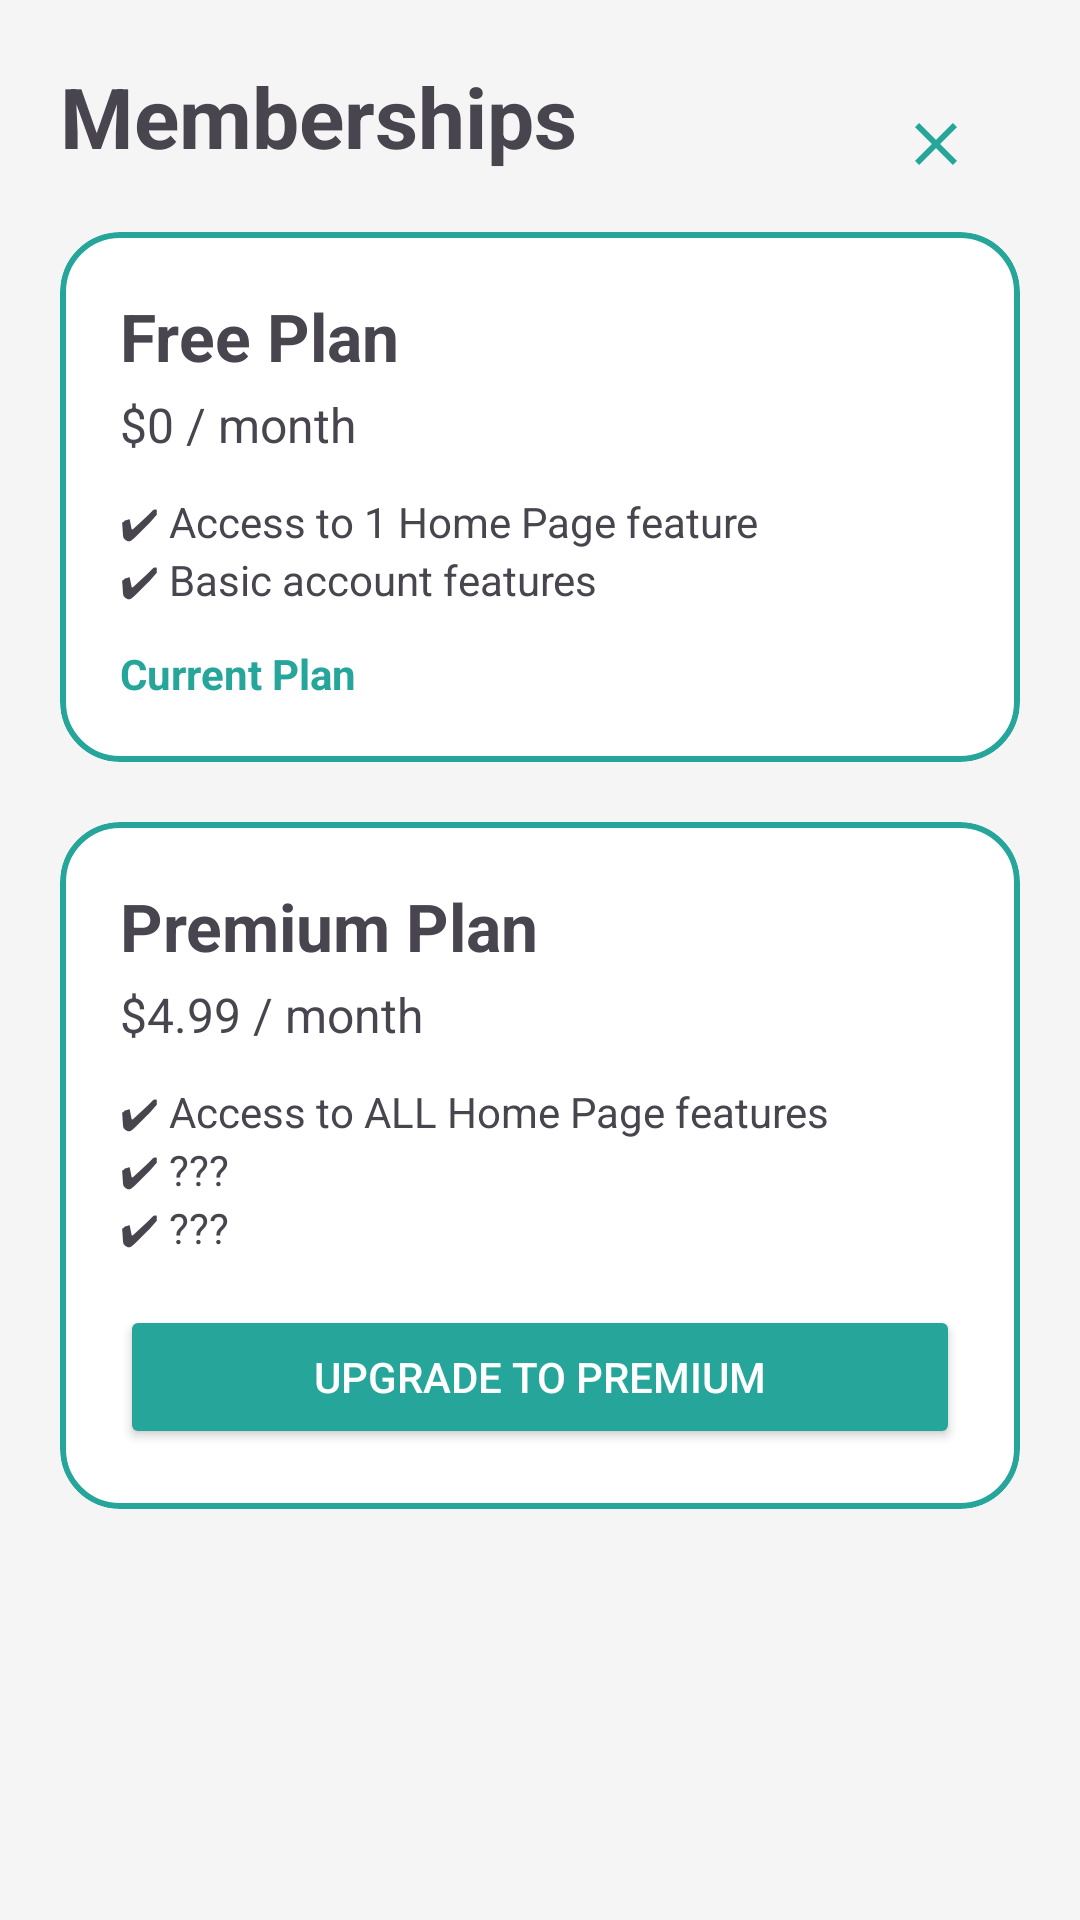

Icon bounding boxes for this 1080 × 1920 phone screenshot, format (x1, y1, x2, y2):
close: (915, 123, 957, 165)
